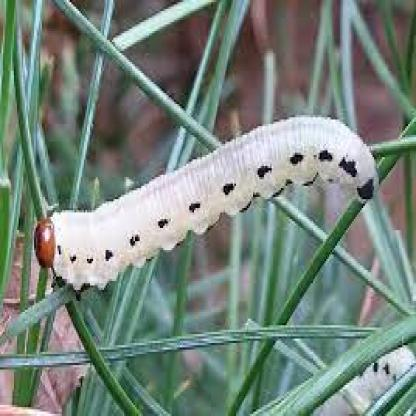sawfly: (25, 108, 380, 296)
